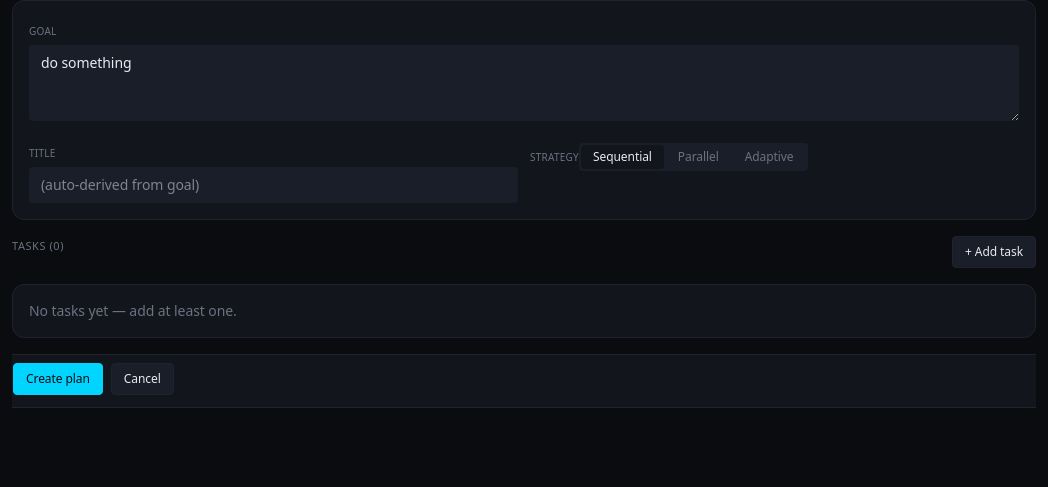
PlanEditor › blocks submit when there are no tasks (inline error)
What coordinates should you click on to do the following:
click the button with test id "submit-plan"
I would click on:
 (58, 379)
Its box is [13,363,103,395].
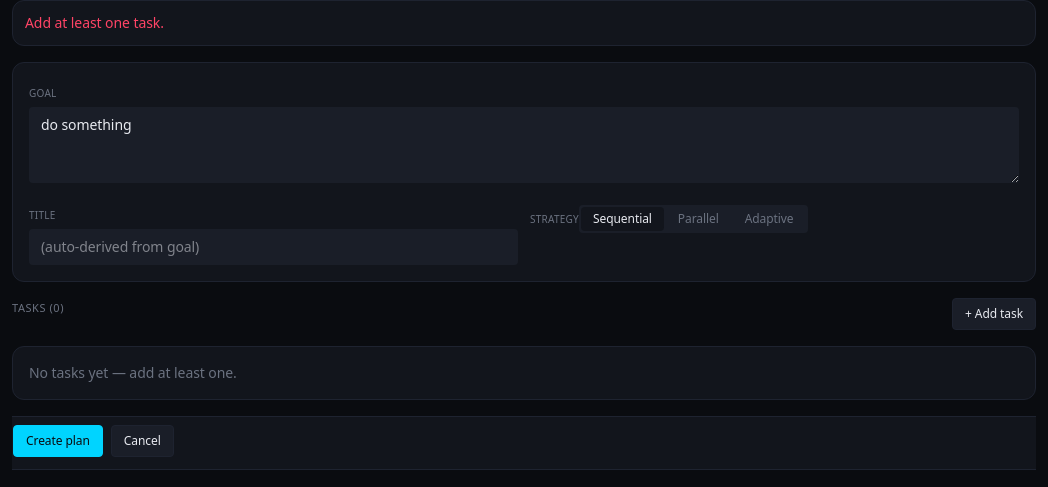
Expected: the message shows "at least one task", [25,13,164,32]
